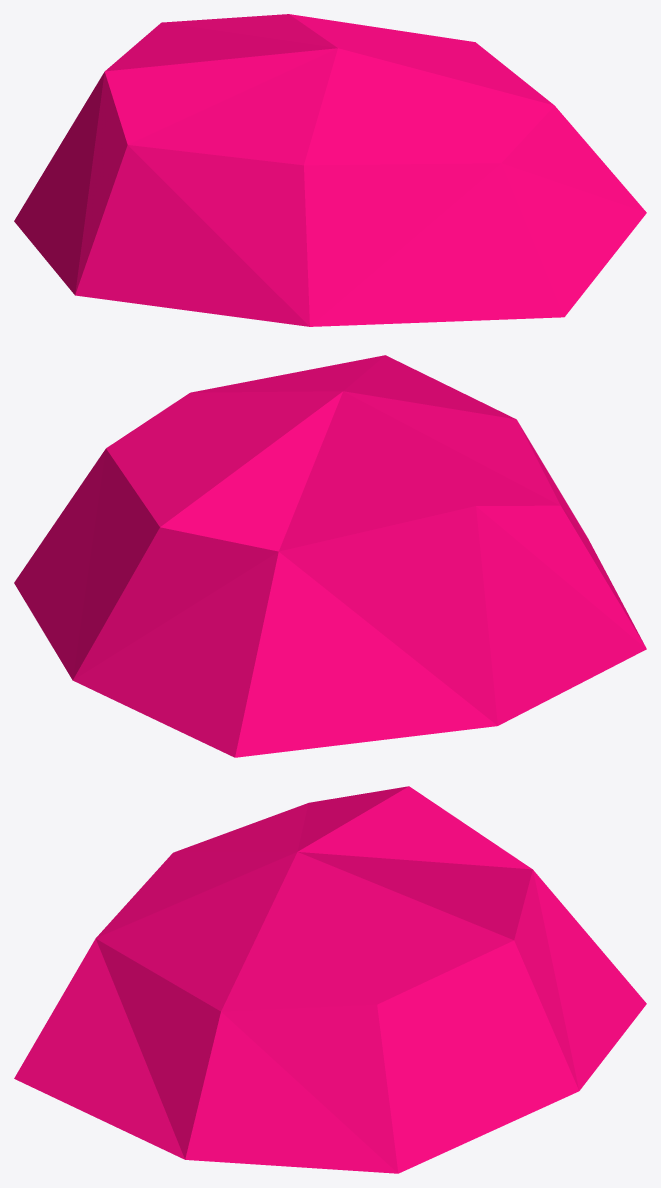
The model's file is SM_SS_Stone_3.fbx.
The picture shows the model from 3 angles, top to bottom: view 1: azimuth 30°, elevation 25°; view 2: azimuth 150°, elevation 25°; view 3: azimuth 270°, elevation 25°; orthographic projection. The views are drawn at different scales.
Visible parts, largest first — view 1: SM_SS_Stone_4; view 2: SM_SS_Stone_4; view 3: SM_SS_Stone_4.
Part boxes in pixels (bbox=[...]): SM_SS_Stone_4: bbox=[14, 14, 646, 326]; SM_SS_Stone_4: bbox=[14, 355, 646, 757]; SM_SS_Stone_4: bbox=[14, 786, 646, 1173].
Bounding box in the file's own units: 107 × 112 × 39.04.
